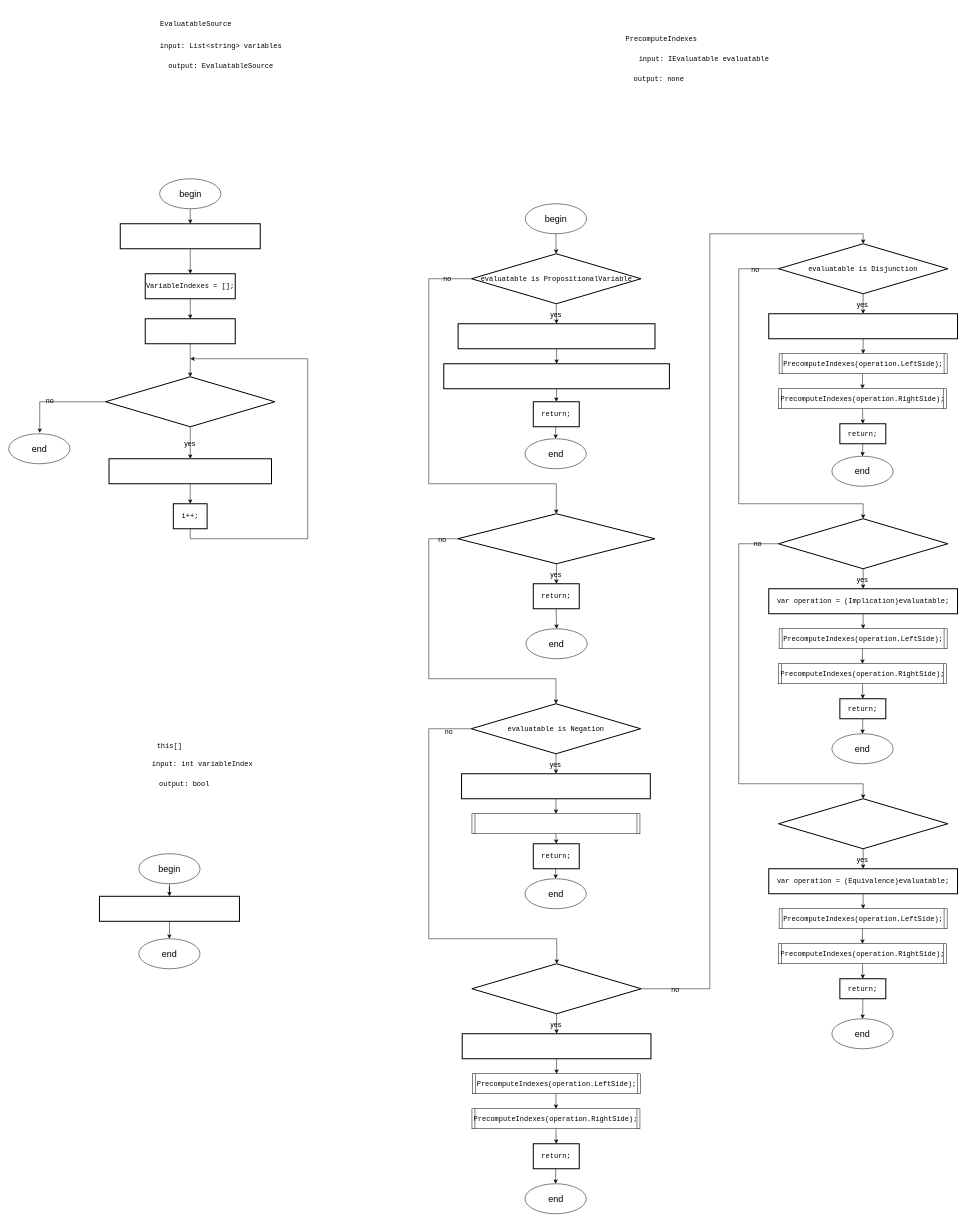
This 967x1223 diagram has some shape labels left out. Each missing label, with the box of its shape:
evaluatable is Conjunction: (471, 963, 642, 1014)
evaluatable is Equivalence: (778, 798, 948, 849)
evaluatable is Implication: (778, 518, 948, 569)
evaluatable is Truth || evaluatable is False: (457, 513, 655, 564)
i < variables.Count;: (105, 376, 275, 427)
int i = 0 ;: (144, 318, 236, 344)
PrecomputeIndexes(operation.Formula);: (471, 813, 640, 834)
return VariableValues[variableIndex];: (99, 896, 240, 922)
var operation = (Conjunction)evaluatable;: (461, 1033, 651, 1059)
var operation = (Disjunction)evaluatable;: (768, 313, 958, 339)
var operation = (Negation)evaluatable;: (461, 773, 651, 799)
var variable = (PropositionalVariable)evaluatable;: (457, 323, 655, 349)
variable.VariableIndex = VariableIndexes[variable.Name];: (443, 363, 670, 389)
VariableIndexes.Add(VariableNames[i], i);: (108, 458, 272, 484)
VariableNames = variables.ToArray();: (120, 223, 260, 249)
